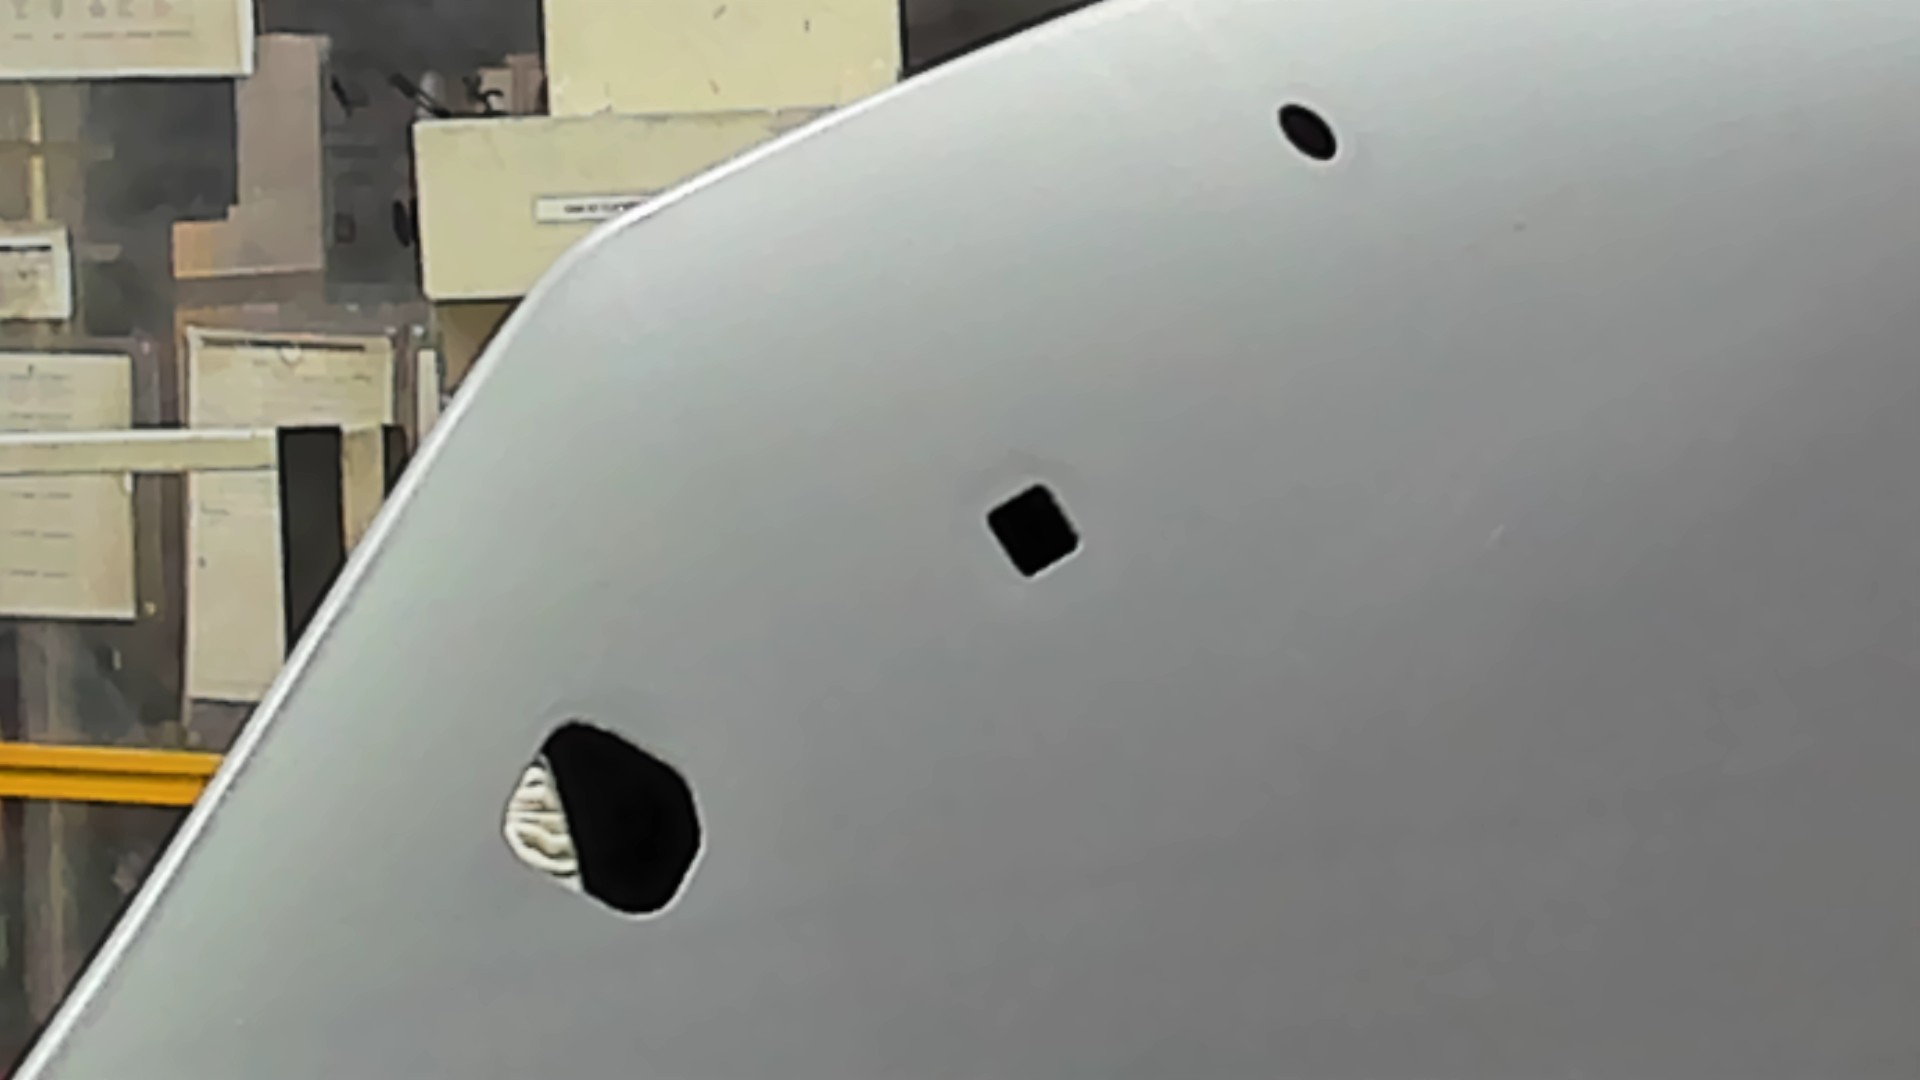capo: (1093, 170, 1920, 1080)
chico: (1274, 102, 1342, 167)
grande: (495, 713, 713, 923)
mediano: (982, 479, 1088, 583)
